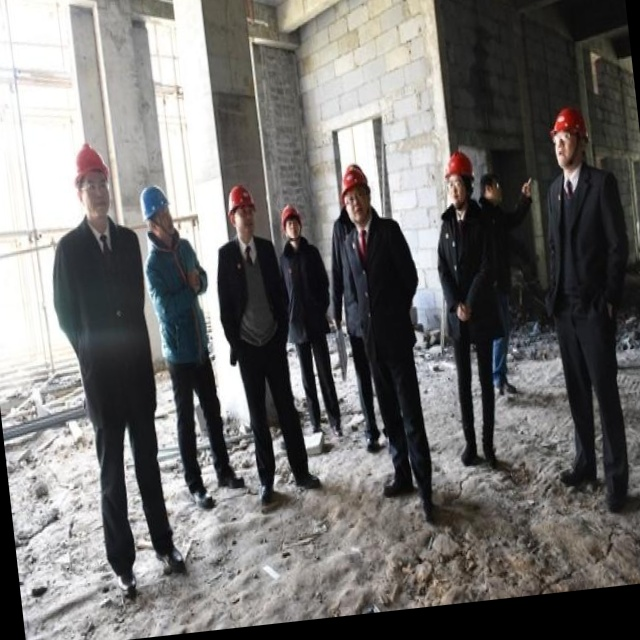Con_Casco: (136, 183, 176, 244), (226, 182, 261, 243)
Sin_Chaleco: (56, 215, 156, 397), (539, 163, 631, 310), (215, 230, 287, 353)
